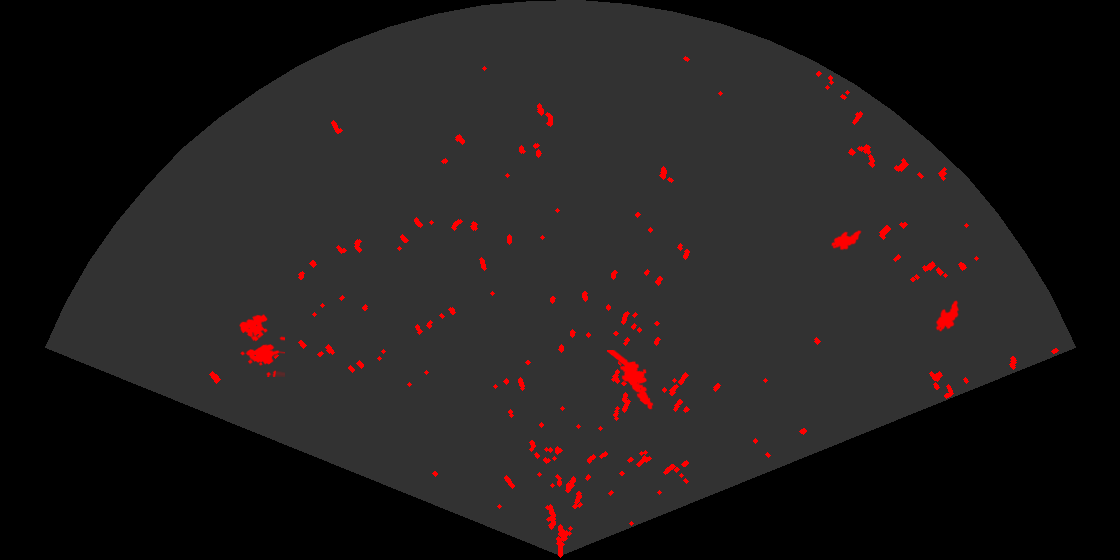AUV: (934, 299, 961, 333), (830, 229, 863, 252)
cage: (238, 312, 285, 377)
frogman: (607, 350, 655, 411)
